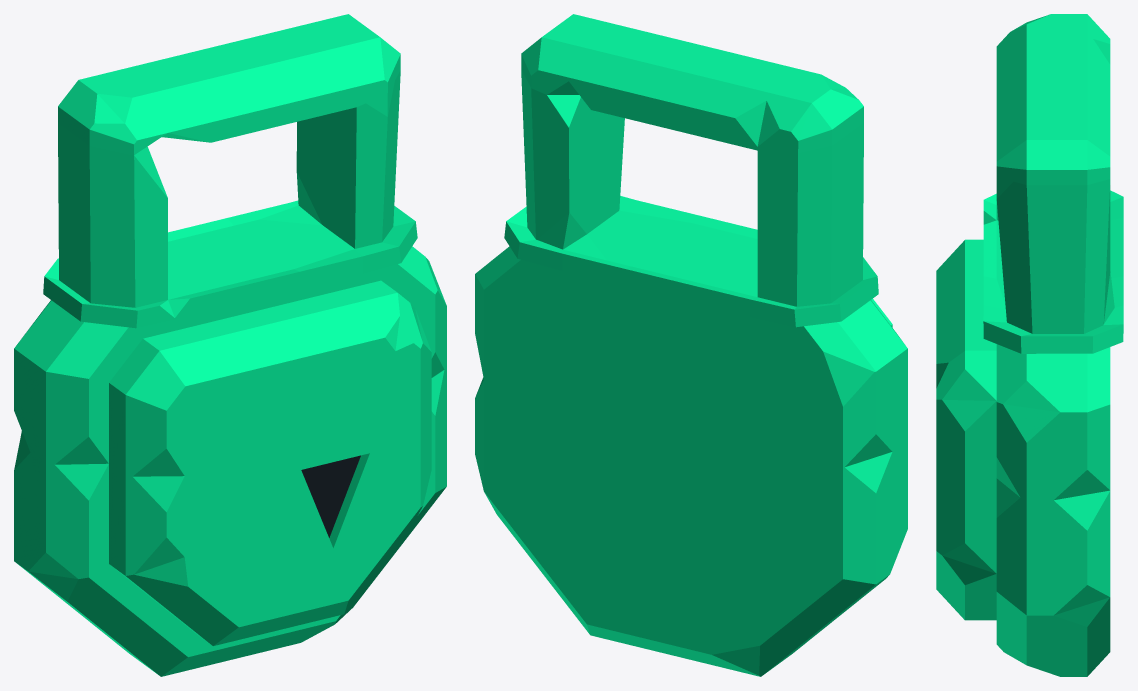
The model's file is green_lock.glb.
3 renders of one model, left to right at view 1: azimuth 30°, elevation 25°; view 2: azimuth 150°, elevation 25°; view 3: azimuth 270°, elevation 25°, orthographic. The views are drawn at different scales.
Visible parts, largest first — view 1: Circle.020; view 2: Circle.020; view 3: Circle.020.
Part boxes in pixels (x1=…): Circle.020: x1=14, y1=14, x2=446, y2=676; Circle.020: x1=475, y1=14, x2=907, y2=676; Circle.020: x1=936, y1=14, x2=1123, y2=676.
Bounding box in the file's own units: 2 × 2.79 × 0.8475.
1 material, 1 textured.
